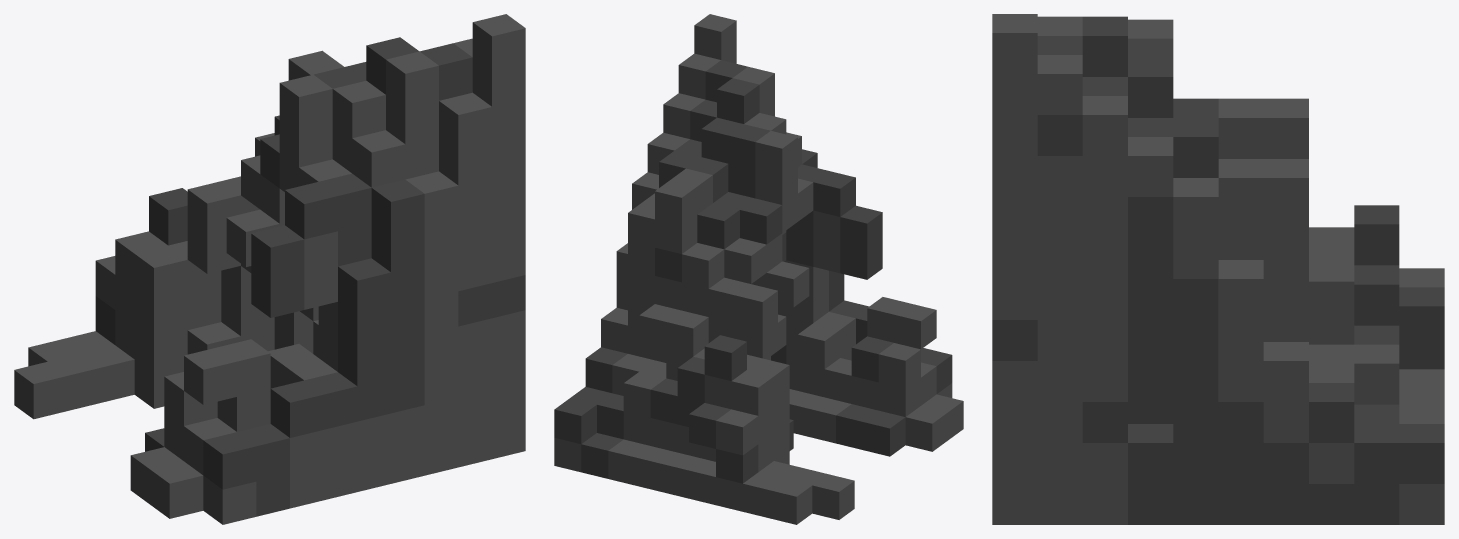
The model's file is Stein_ecke_ebene-04.obj.
3 views of the same model, side by side, from view 1: azimuth 30°, elevation 25°; view 2: azimuth 150°, elevation 25°; view 3: azimuth 270°, elevation 25° (orthographic). The views are drawn at different scales.
Size of the model in its own units: 1 by 1.2 by 1.
Materials: 1 (1 with a texture image).
